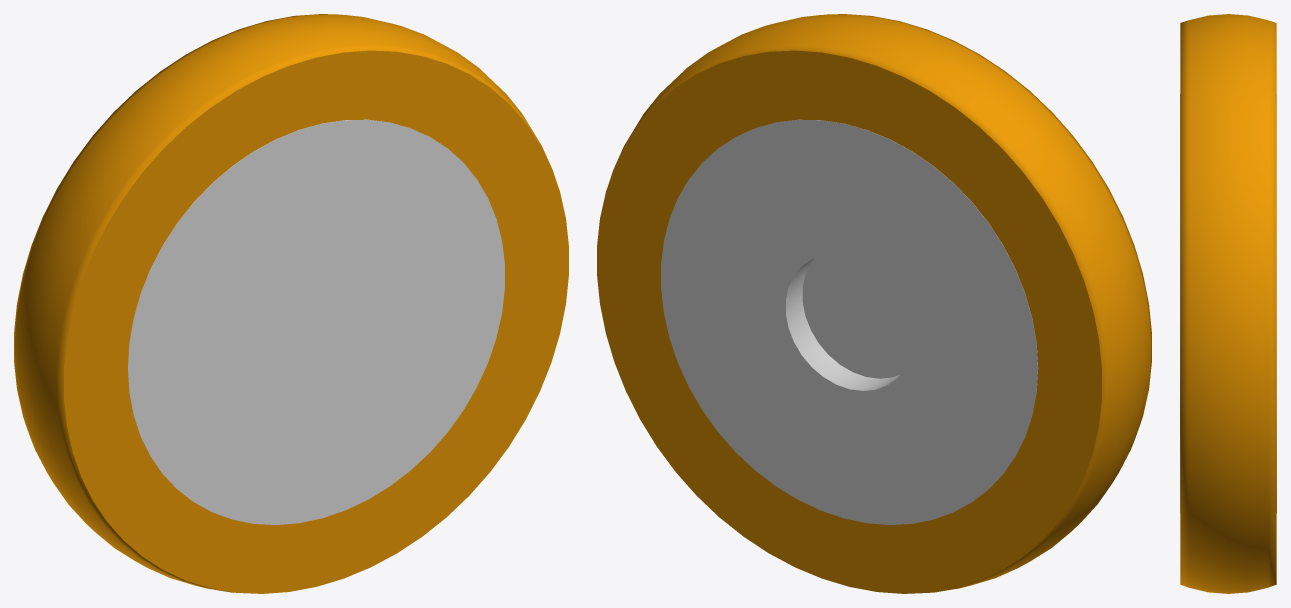
File: MPO-700-WHEEL.dae
3 views of the same model, side by side, from view 1: azimuth 30°, elevation 25°; view 2: azimuth 150°, elevation 25°; view 3: azimuth 270°, elevation 25° (orthographic). The views are drawn at different scales.
Visible parts, largest first — view 1: Volumenkörper1_005; view 2: Volumenkörper1_005; view 3: Volumenkörper1_005.
Part boxes in pixels (x1,y1,x2,y2): Volumenkörper1_005: [14, 14, 568, 593]; Volumenkörper1_005: [597, 14, 1151, 593]; Volumenkörper1_005: [1180, 14, 1276, 593].
Bounding box in the file's own units: 180 × 30 × 180.
